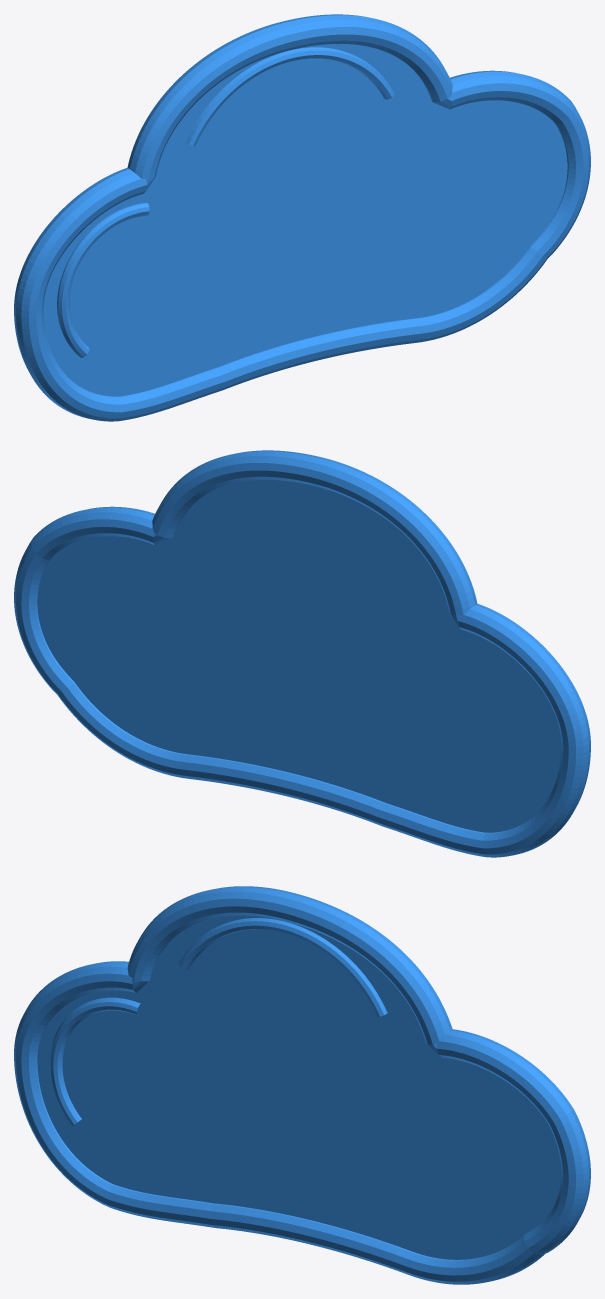
Rendered from satellite_v2.76b104df.gltf.
The picture shows the model from 3 angles, top to bottom: view 1: azimuth 30°, elevation 25°; view 2: azimuth 150°, elevation 25°; view 3: azimuth 330°, elevation 25°; orthographic projection.
Parts seen in each view (by area): view 1: AWS_Cloud; view 2: AWS_Cloud; view 3: AWS_Cloud.
Part boxes in pixels (<box>): AWS_Cloud: <box>14,14,590,421</box>; AWS_Cloud: <box>14,450,590,857</box>; AWS_Cloud: <box>14,886,590,1284</box>.
Bounding box in the file's own units: 720 × 429 × 32.39.
